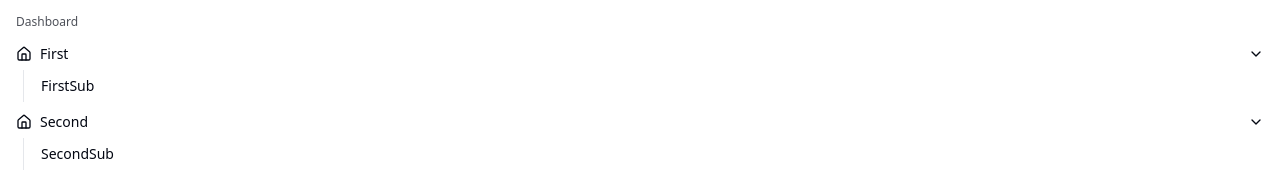
Test: NavMain › Multiple Active Items › should allow independent toggling of multiple items
The image size is (1280, 187).
Expected: the text "FirstSub" is shown, [41,76,94,96]
Expected: the text "SecondSub" is shown, [41,144,114,164]
# Collapse first
Step 1. Click the button "First" → (24, 54), box [8,38,1272,70]
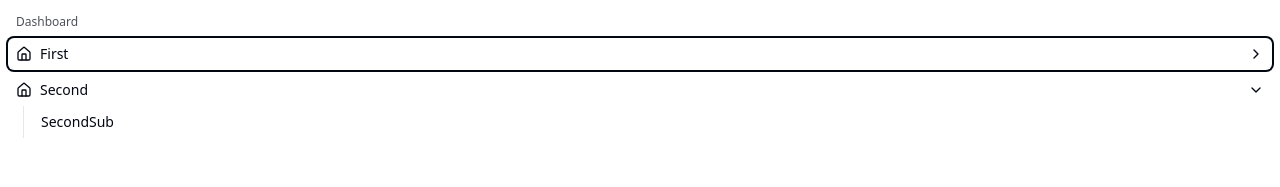
Expected: the text "SecondSub" is shown, [41,112,114,132]
Result: the link "FirstSub" is gone
